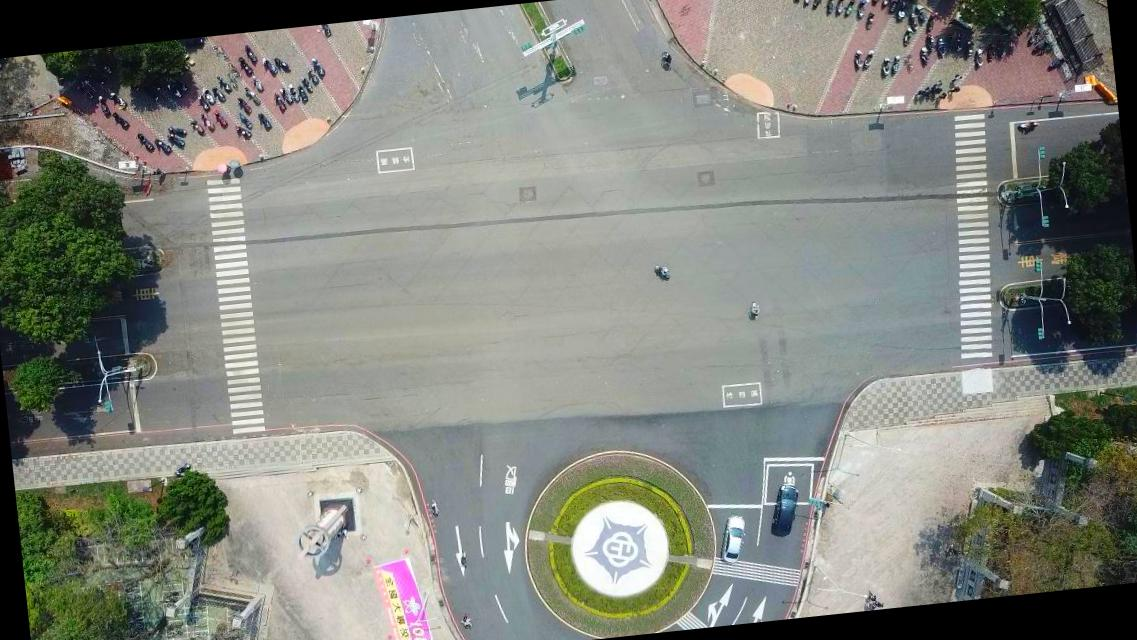vehicle: (762, 482, 805, 540), (716, 512, 752, 566)
